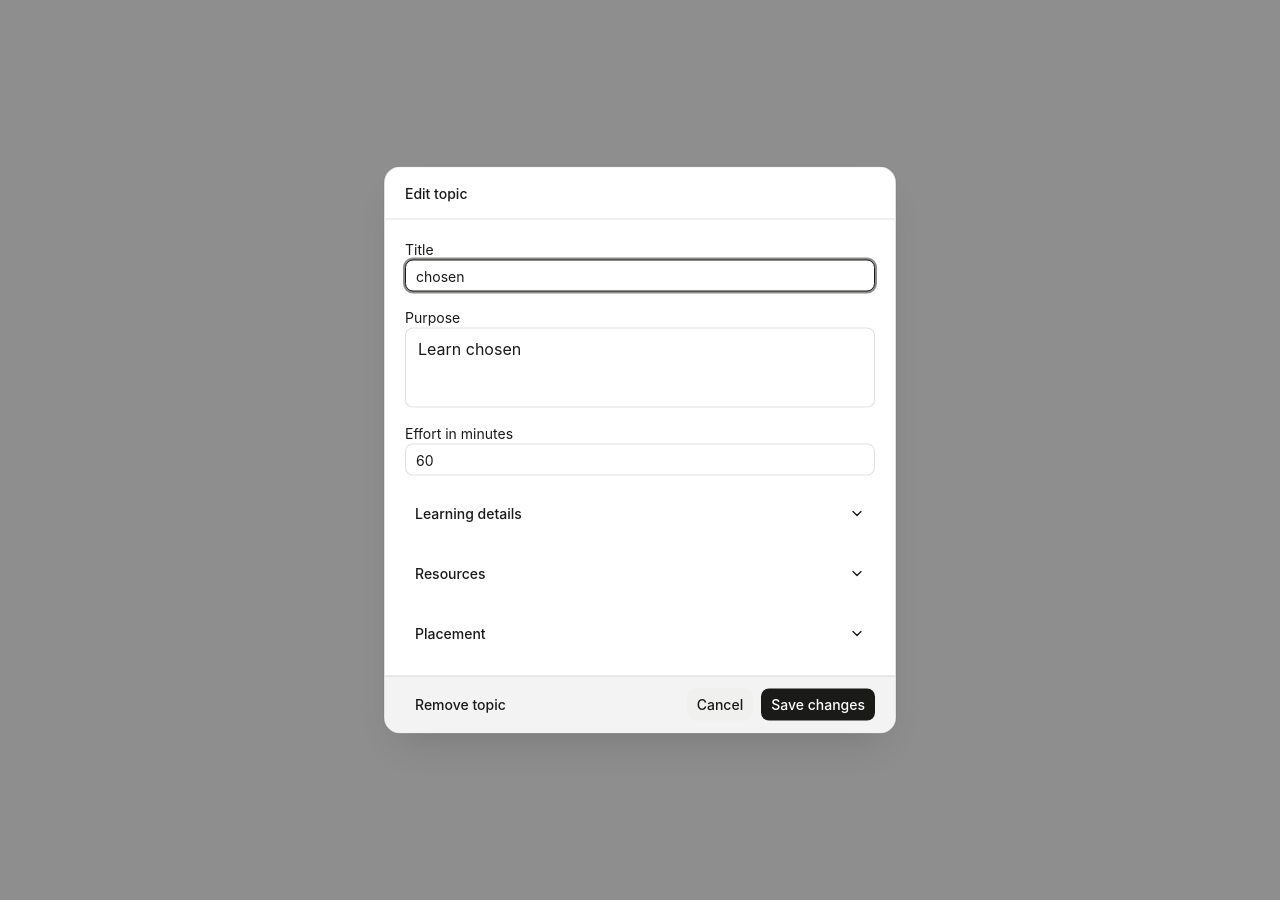
Scenario: keeps the draft and error visible when a save fails
Replace the text in the field labelled "Title" with "Keep this draft" at point(640, 276), box top-left (405, 260), bottom-right (875, 292)
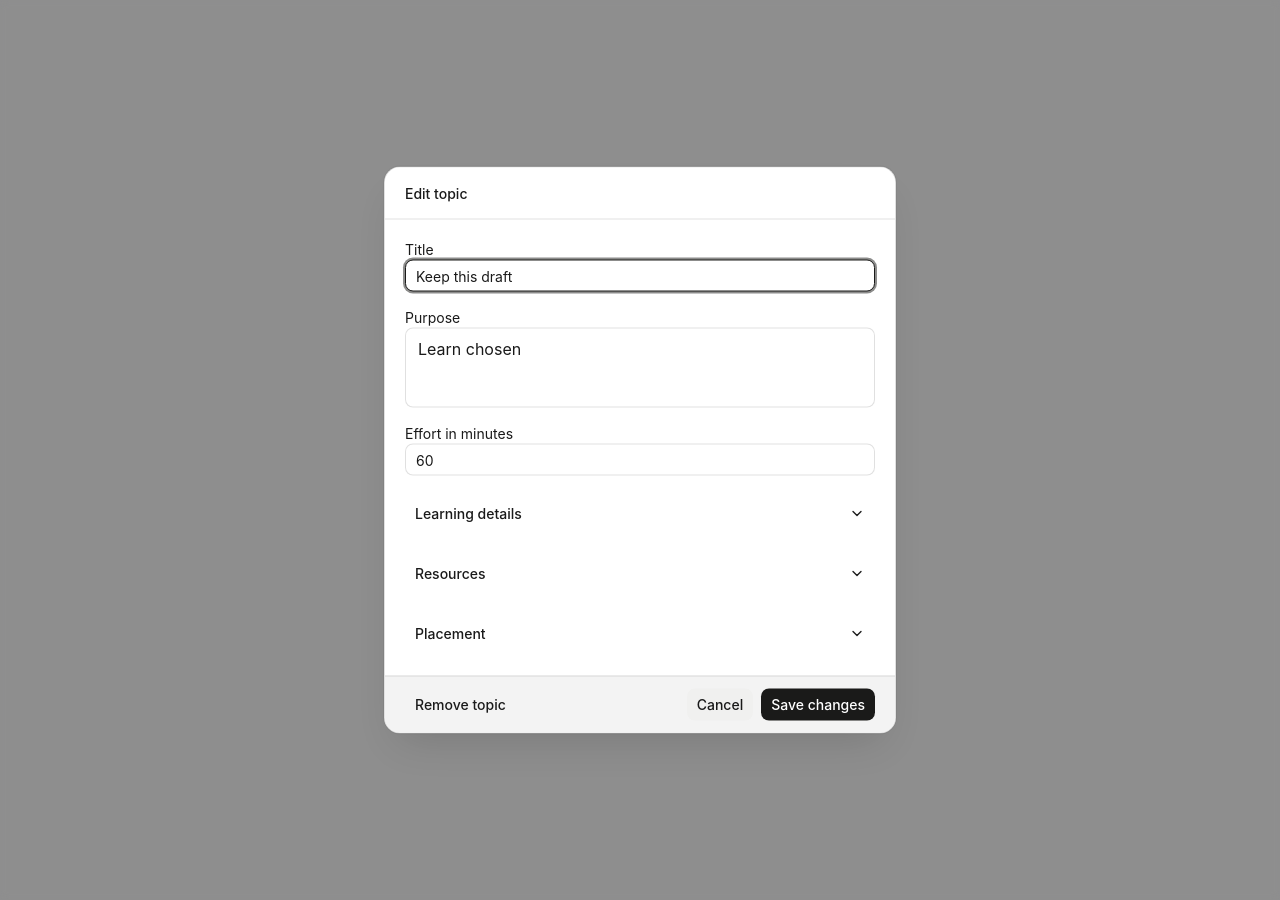
Click the button "Save changes" at point(818, 704), box top-left (761, 688), bottom-right (875, 720)
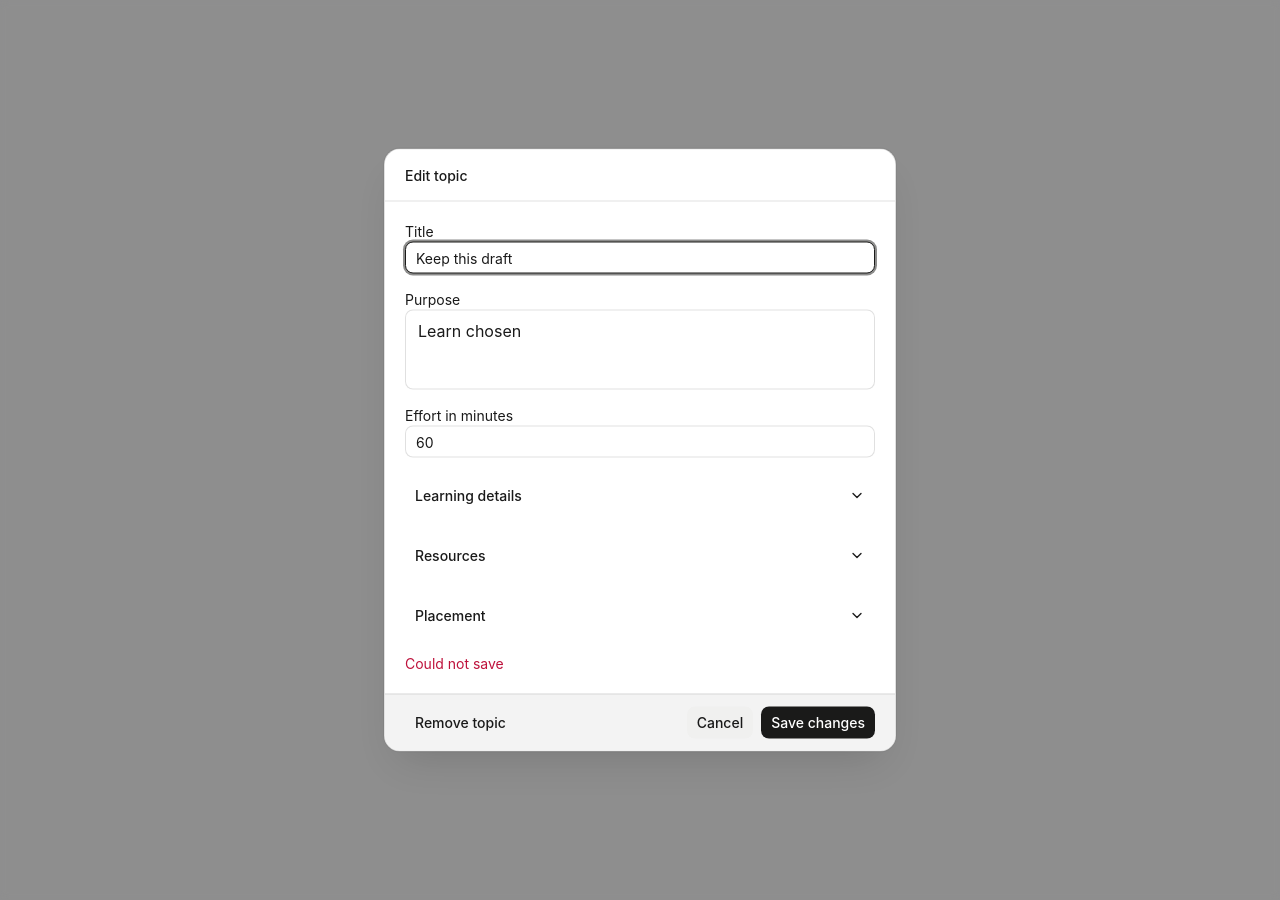
Expected: the button "Save changes" is enabled, top-left (761, 706), bottom-right (875, 738)
Now the message reads "Could not save", box top-left (405, 654), bottom-right (504, 672)
